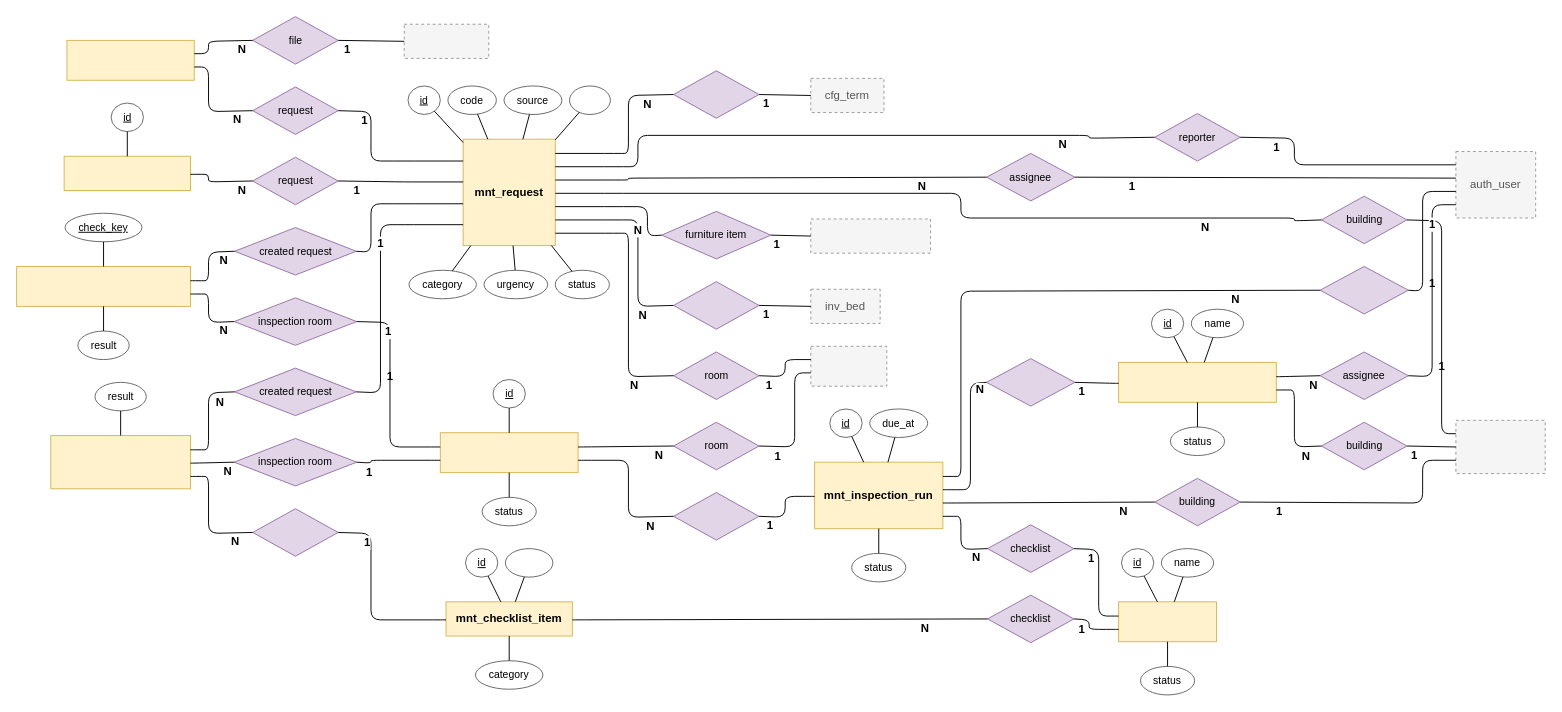
Image size: 1562x712. Some labels were removed from this diagram. The centre of each missing label's shape, as x and y in pixels:
"bed" goes at point (716, 305).
"inspector" goes at point (1363, 290).
"inv_building" goes at point (1500, 446).
"inv_furniture_item" goes at point (870, 235).
"inv_room" goes at point (848, 365).
"item" goes at point (295, 532).
"label" goes at point (528, 562).
"mnt_checklist" goes at point (1167, 621).
"mnt_inspection_result" goes at point (120, 462).
"mnt_inspection_room" goes at point (508, 452).
"mnt_inspection_room_check" goes at point (103, 286).
"mnt_inspection_schedule" goes at point (1197, 381).
"mnt_request_event" goes at point (126, 172).
"mnt_request_photo" goes at point (130, 59).
"run" goes at point (716, 516).
"schedule" goes at point (1030, 382).
"shared_file" goes at point (446, 40).
"term" goes at point (716, 94).
"title" goes at point (589, 99).
